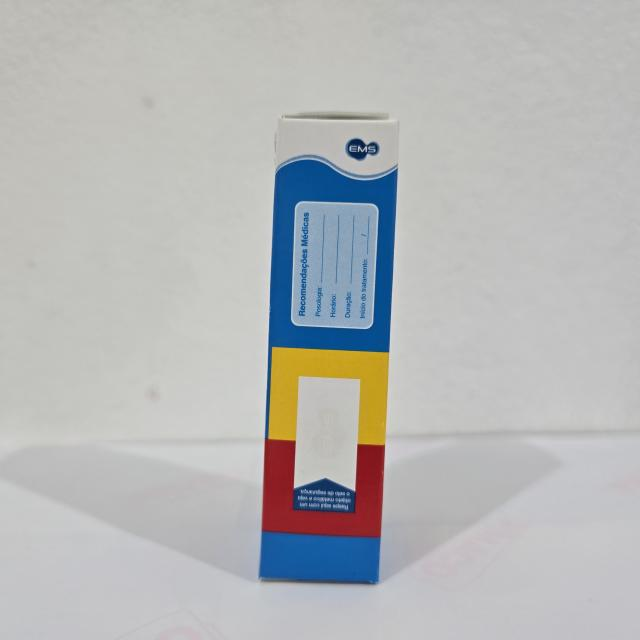prednisona: (253, 103, 404, 596)
